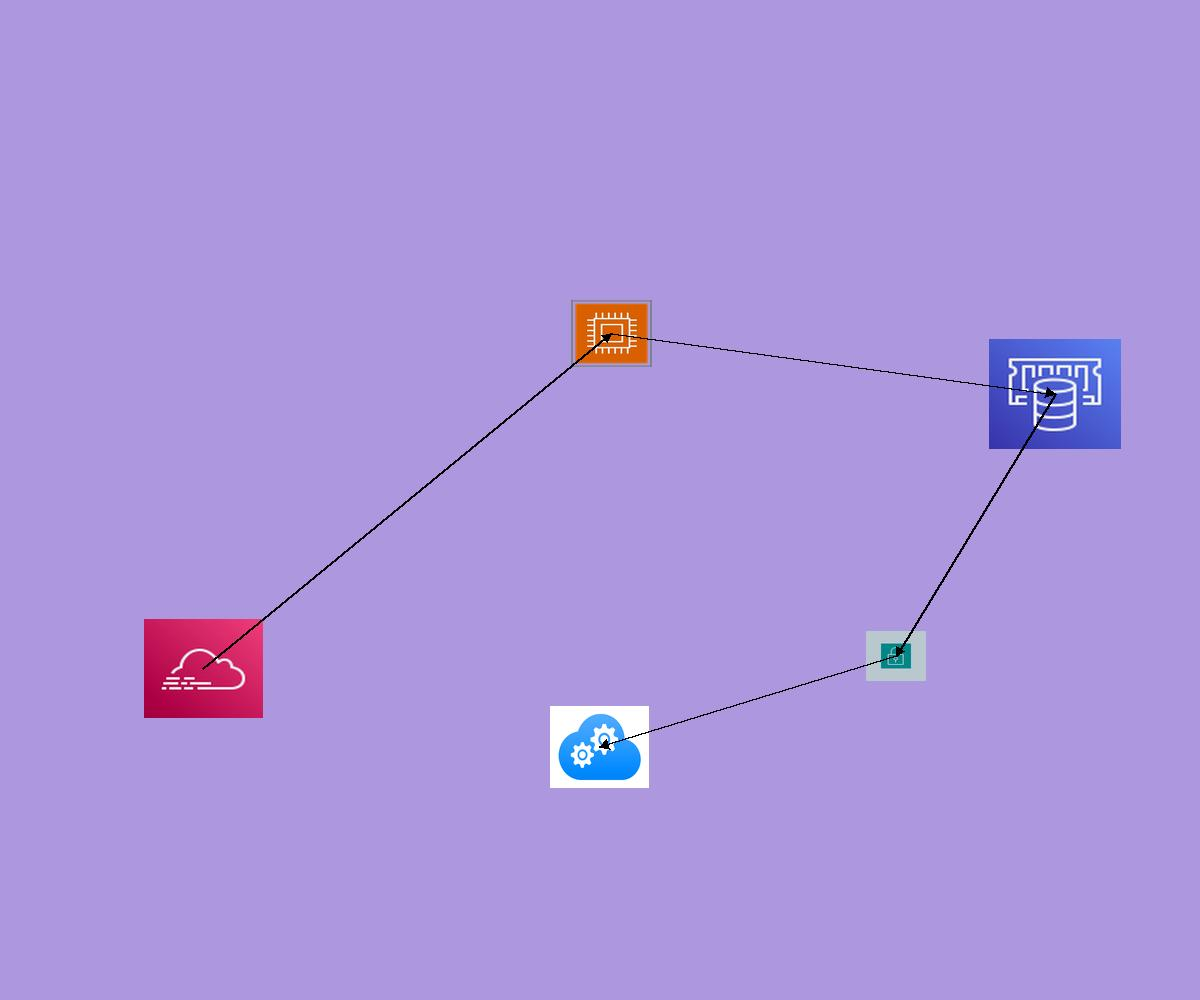AWS-Category_Compute: (571, 300, 652, 367)
AWS-CloudTrail: (144, 619, 263, 718)
AWS-ElastiCache: (989, 339, 1121, 449)
AWS-Private-subnet: (866, 631, 926, 681)
Azure_cloud_services: (550, 706, 649, 788)
